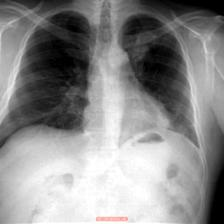tuberculosis: (1, 7, 208, 191)
